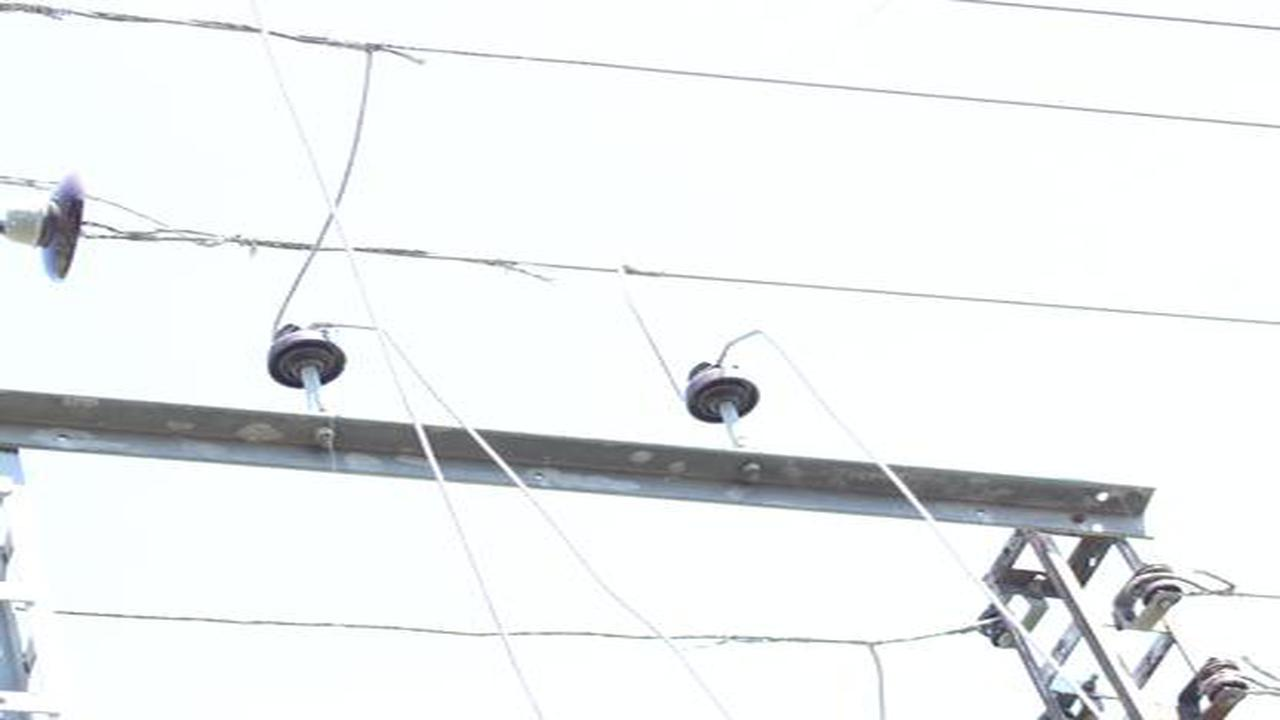insulator_disc: (8, 174, 88, 282)
insulator_pin: (266, 316, 350, 390), (680, 355, 762, 427)
